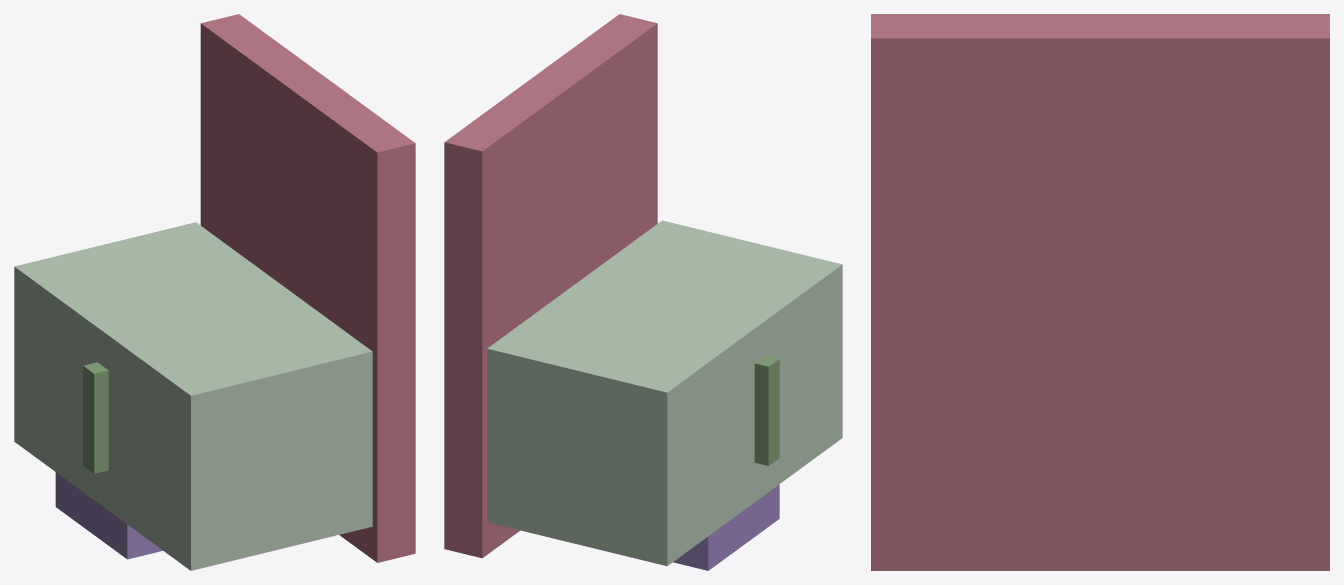
3 views of the same model, side by side, from view 1: azimuth 30°, elevation 25°; view 2: azimuth 150°, elevation 25°; view 3: azimuth 270°, elevation 25° (orthographic). The views are drawn at different scales.
Visible parts, largest first — view 1: world; view 2: world; view 3: world.
Part boxes in pixels (x1,y1,x2,y2): world: (14, 14, 415, 570); world: (444, 14, 842, 570); world: (871, 14, 1329, 570).
Size of the model in its own units: 5.05 by 8.2 by 6.4.
